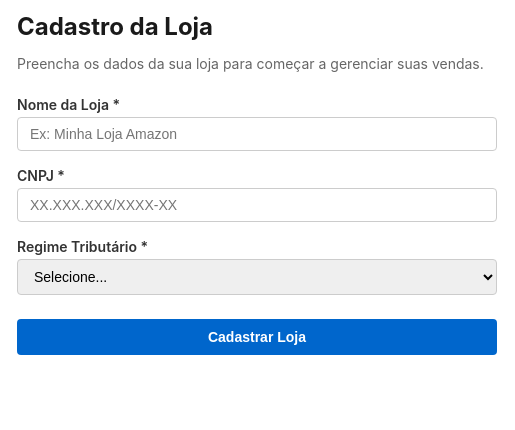
Test: SetupStorePage › shows validation errors when submitting empty form
What coordinates should you click on to do the following:
click the button "Cadastrar Loja"
I would click on:
 (257, 337)
Its box is [17, 319, 497, 355].
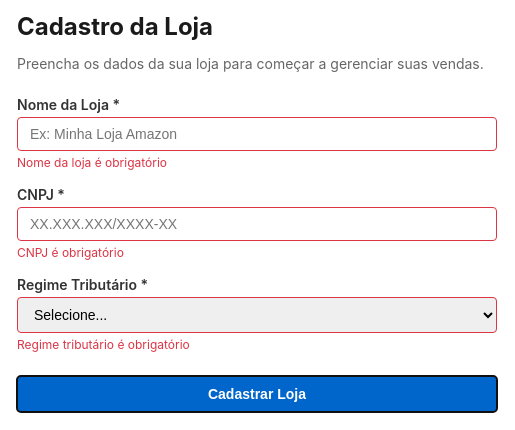
Check: the text "Nome da loja é obrigatório" is shown, box [17, 155, 167, 170]
Check: the text "CNPJ é obrigatório" is shown, box [17, 245, 124, 260]
Check: the text "Regime tributário é obrigatório" is shown, box [17, 337, 190, 352]
